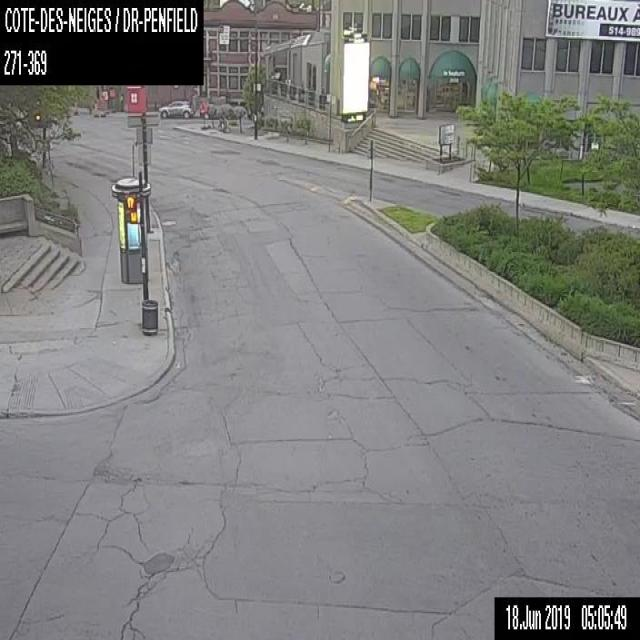vehicle: (158, 99, 193, 117)
